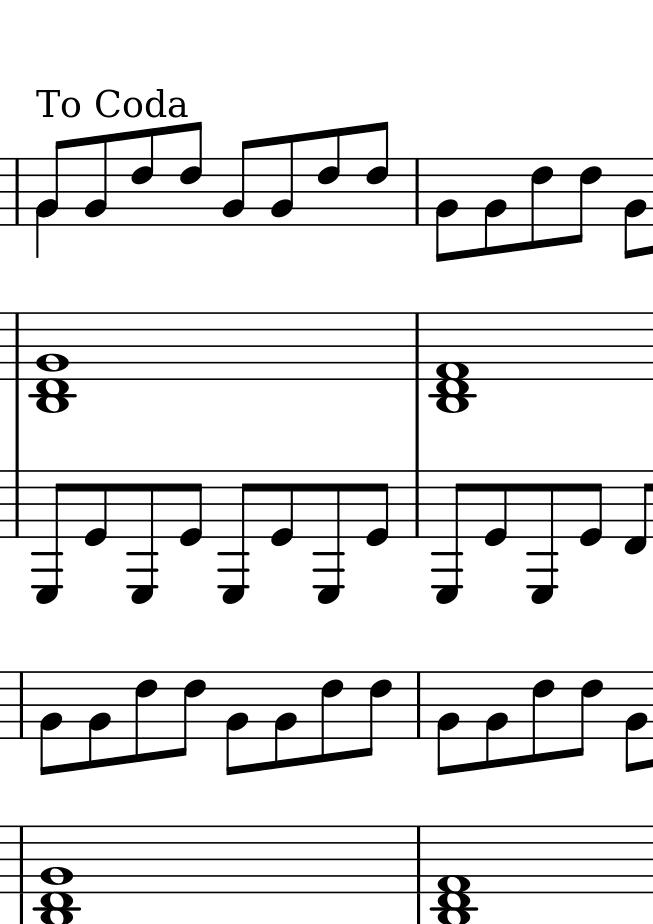1_th: (30, 823, 80, 924), (29, 313, 78, 415), (429, 826, 478, 924), (432, 310, 475, 413)
8_-7: (429, 467, 473, 603), (33, 468, 71, 607), (217, 469, 253, 607), (125, 468, 160, 607), (530, 467, 557, 608), (316, 469, 343, 606)
8_0: (178, 467, 206, 552), (365, 468, 392, 550), (83, 468, 110, 549), (268, 468, 296, 546), (484, 469, 510, 545), (579, 467, 604, 546)
8_2: (433, 156, 460, 265), (623, 155, 650, 264), (621, 667, 648, 774), (436, 670, 461, 781), (221, 139, 251, 230), (224, 671, 249, 779), (268, 135, 296, 231), (39, 671, 64, 778), (482, 155, 508, 257), (483, 669, 509, 771), (85, 670, 111, 771), (84, 132, 109, 230), (273, 670, 297, 771)
8_6: (171, 668, 206, 759), (127, 126, 157, 229), (572, 669, 606, 756), (573, 154, 603, 246), (131, 668, 160, 762), (179, 120, 204, 229), (317, 126, 343, 228), (318, 670, 345, 765), (365, 121, 389, 226), (363, 669, 391, 756), (528, 156, 554, 249), (531, 668, 555, 760)
Single_barline: (406, 311, 432, 377), (3, 311, 27, 378), (407, 469, 430, 538), (409, 826, 431, 892), (406, 159, 427, 226), (12, 671, 32, 738), (12, 825, 31, 892), (10, 159, 29, 225), (411, 671, 429, 739), (10, 471, 27, 538)
ToCoda: (33, 85, 190, 120)
